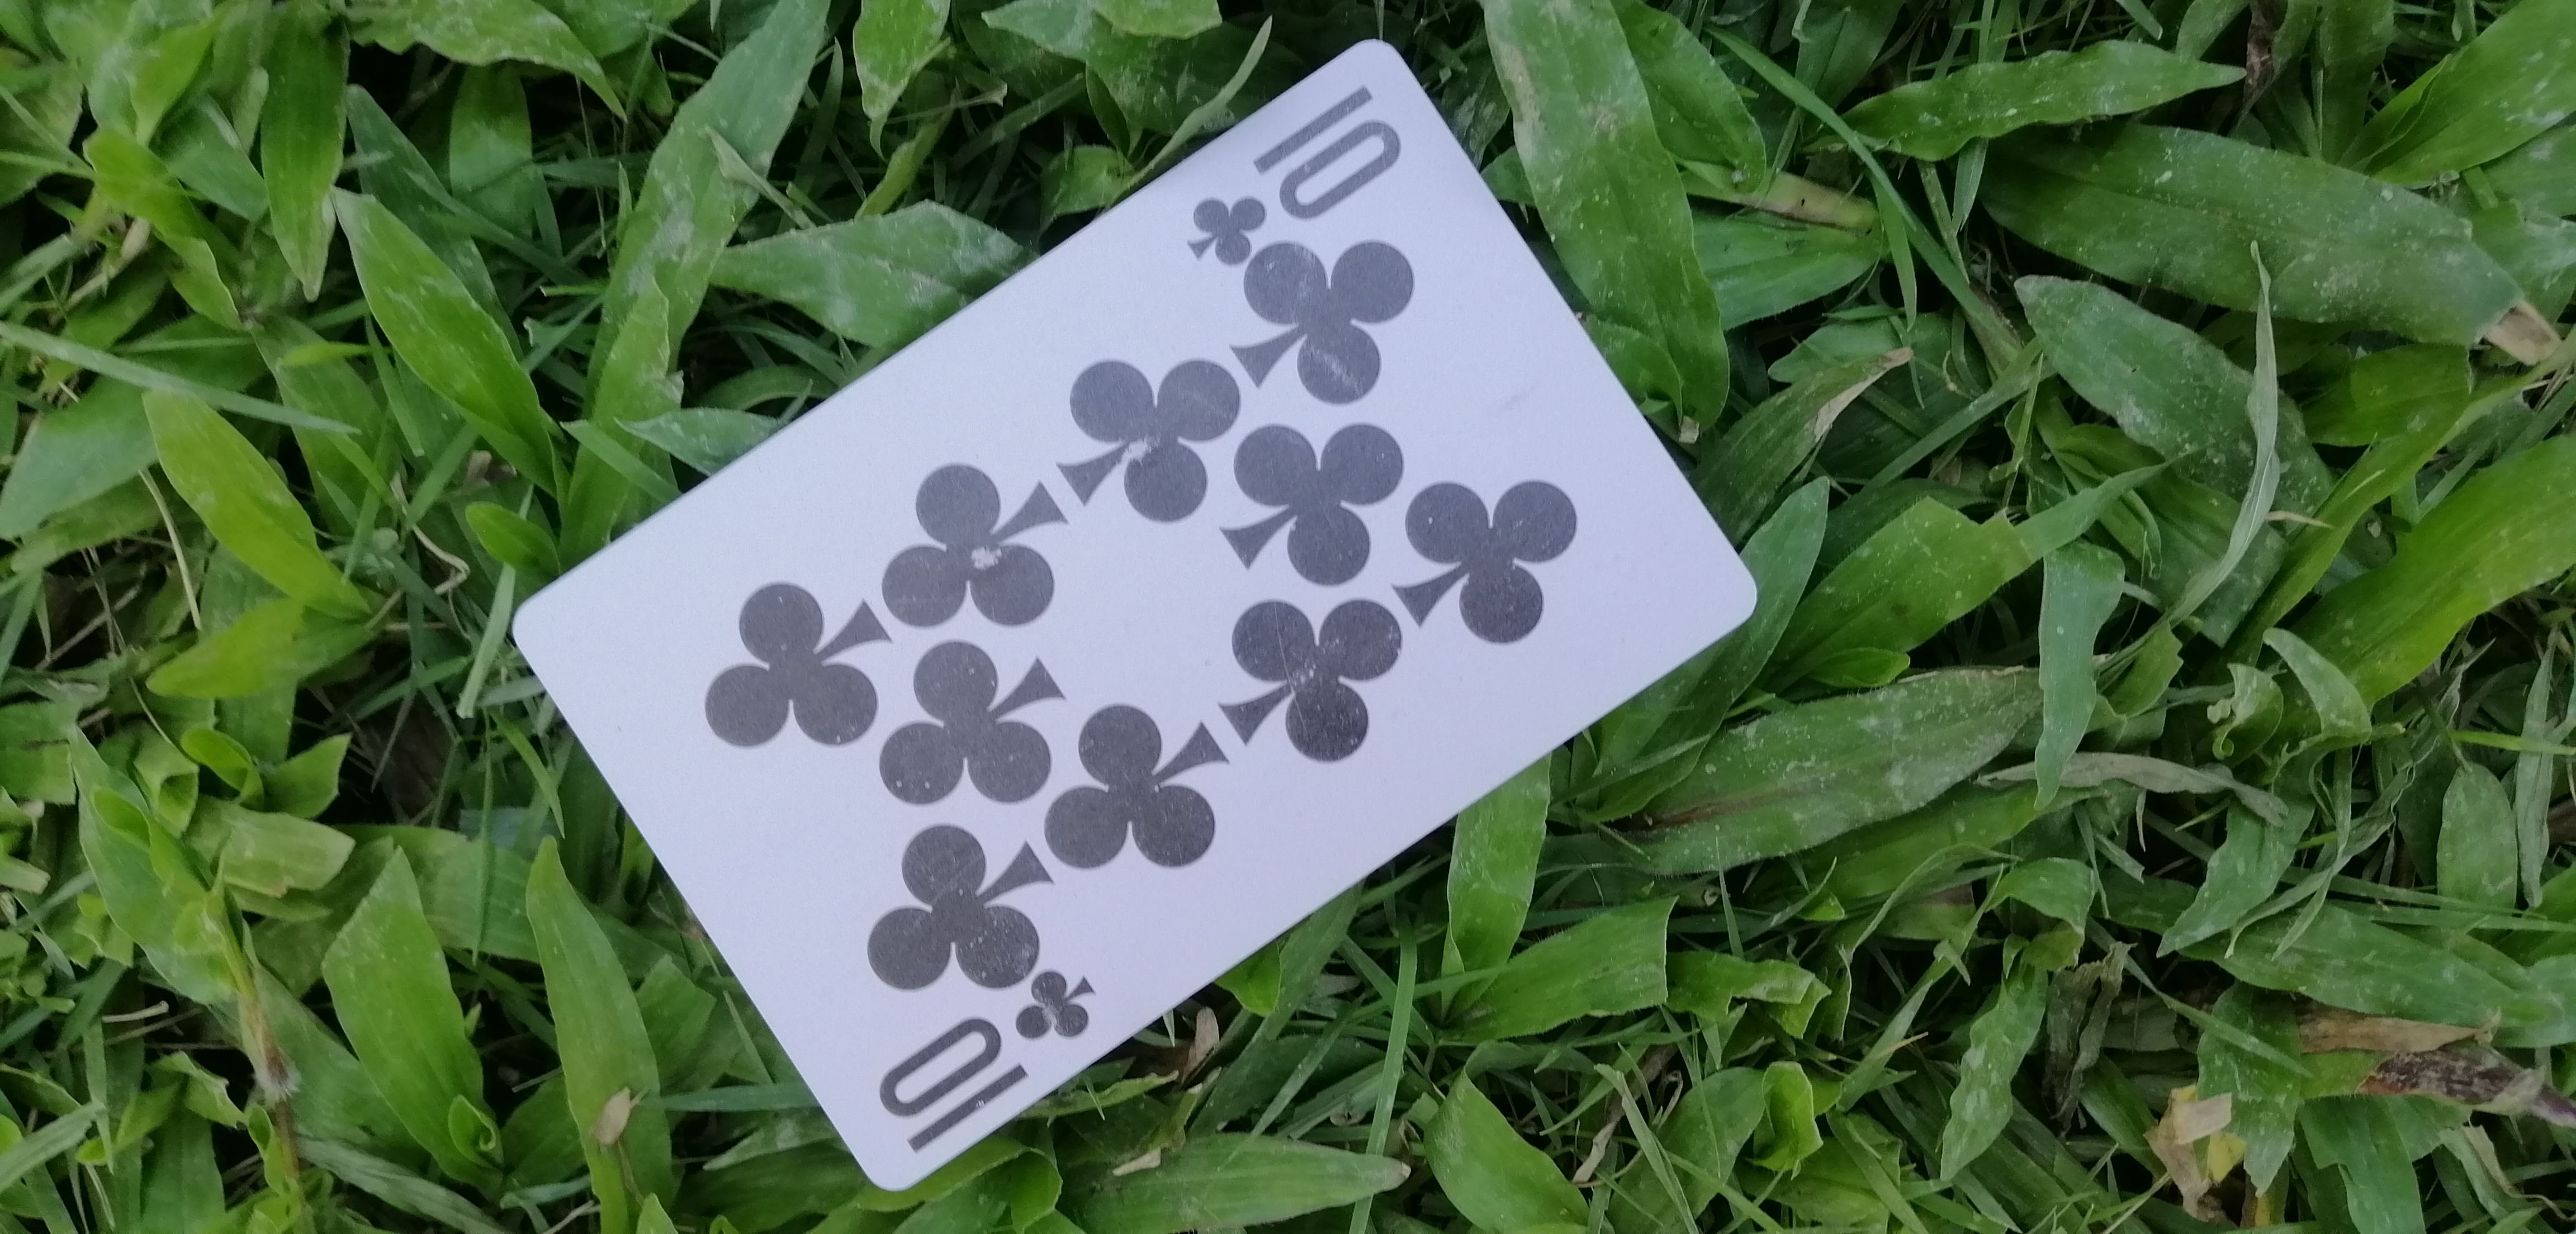ten: (476, 39, 1753, 1199)
